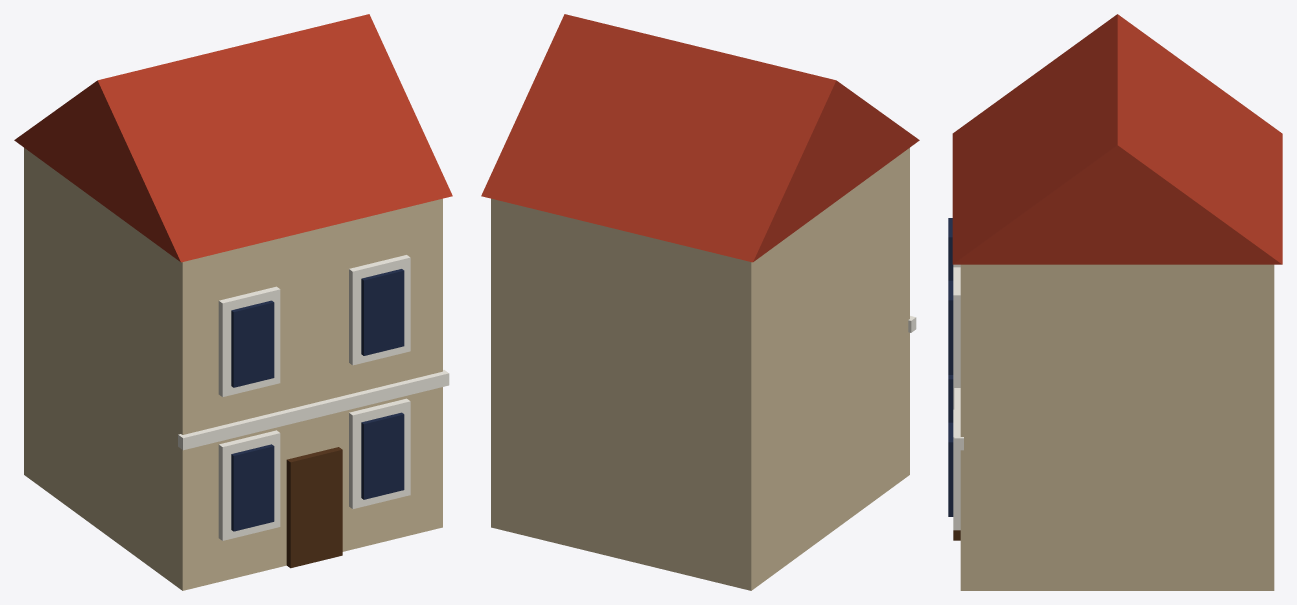
The model's file is kwatera.glb.
3 views of the same model, side by side, from view 1: azimuth 30°, elevation 25°; view 2: azimuth 150°, elevation 25°; view 3: azimuth 270°, elevation 25° (orthographic).
Visible parts, largest first — view 1: kwatera; view 2: kwatera; view 3: kwatera.
Part boxes in pixels (left/top/right/bottom): kwatera: left=14, top=14, right=452, bottom=590; kwatera: left=481, top=14, right=919, bottom=590; kwatera: left=948, top=14, right=1282, bottom=590.
Bounding box in the file's own units: 1.88 × 3 × 2.02.
